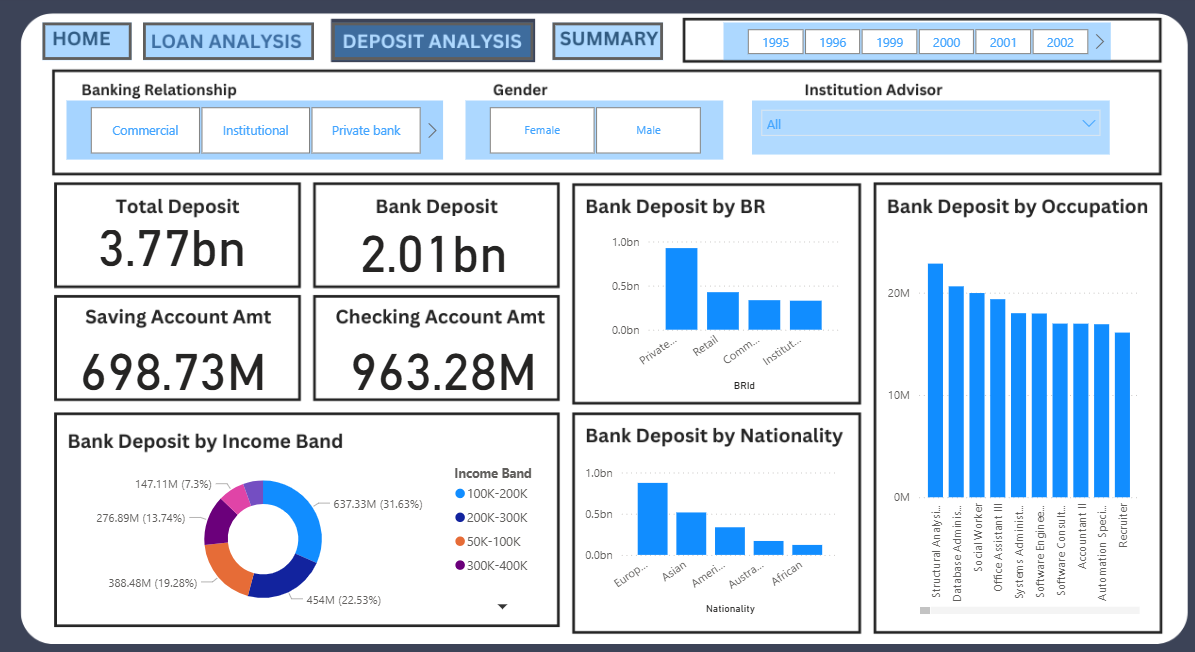

The page's visual inventory and layout, read from the dashboard file:
{"tool":"powerbi","page":{"name":"deposit analysis","canvas":[1280,720],"ordinal":2},"visuals":[{"type":"actionButton","box":[45.4,30.2,94.5,39.7],"z":0},{"type":"actionButton","box":[153.1,30.2,181.4,39.7],"z":1000},{"type":"actionButton","box":[353.4,30.2,213.5,39.7],"z":2000},{"type":"actionButton","box":[587.7,30.2,117.2,39.7],"z":3000},{"type":"card","fields":{"Values":["Banking.total deposit"]},"box":[91.8,244.8,181.6,55.1],"z":3001},{"type":"card","fields":{"Values":["Sum(Banking.Bank Deposits)"]},"box":[367.3,234.6,185.7,65.3],"z":3002},{"type":"card","fields":{"Values":["Sum(Banking.Saving Accounts)"]},"box":[71.4,359.1,224.4,67.3],"z":3003},{"type":"card","fields":{"Values":["Sum(Banking.Checking Accounts)"]},"box":[353,359.1,234.6,67.3],"z":3004},{"type":"slicer","fields":{"Values":["Banking.BRId"]},"box":[70.8,112.7,399.1,62.8],"z":3005},{"type":"slicer","fields":{"Values":["Banking.GenderId"]},"box":[494.1,112.7,273.6,62.8],"z":3006},{"type":"slicer","fields":{"Values":["Banking.IAId"]},"box":[797.8,112.2,379.5,57.1],"z":3007},{"type":"clusteredColumnChart","fields":{"Category":["Banking.Nationality"],"Y":["Sum(Banking.Bank Deposits)"]},"box":[616.2,493.8,279.5,169.4],"z":3008},{"type":"clusteredColumnChart","fields":{"Y":["Sum(Banking.Bank Deposits)"],"Category":["Banking.BRId"]},"box":[640.7,248.9,255,177.5],"z":3009},{"type":"clusteredColumnChart","fields":{"Category":["Banking.Occupation"],"Y":["Sum(Banking.Bank Deposits)"]},"box":[936.5,248.9,277.5,414.2],"z":3010},{"type":"donutChart","fields":{"Category":["Banking.Income Band"],"Y":["Sum(Banking.Bank Deposits)"]},"box":[71.4,493.8,516.2,169.4],"z":3011},{"type":"slicer","fields":{"Values":["Banking.year joining"]},"box":[767.7,30.6,410.4,40.2],"z":3012}]}

Visuals, with their boxes on the page's 1280x720 design canvas (x1, y1, x2, y2). These are canvas units, not pixel positions in the 1195x652 screenshot, which may show the page scaled, cropped or inside an application window:
actionButton: bbox(45, 30, 140, 70)
actionButton: bbox(153, 30, 334, 70)
actionButton: bbox(353, 30, 567, 70)
actionButton: bbox(588, 30, 705, 70)
card - Banking.total deposit: bbox(92, 245, 273, 300)
card - Sum(Banking.Bank Deposits): bbox(367, 235, 553, 300)
card - Sum(Banking.Saving Accounts): bbox(71, 359, 296, 426)
card - Sum(Banking.Checking Accounts): bbox(353, 359, 588, 426)
slicer - Banking.BRId: bbox(71, 113, 470, 176)
slicer - Banking.GenderId: bbox(494, 113, 768, 176)
slicer - Banking.IAId: bbox(798, 112, 1177, 169)
clusteredColumnChart - Banking.Nationality x Sum(Banking.Bank Deposits): bbox(616, 494, 896, 663)
clusteredColumnChart - Sum(Banking.Bank Deposits) x Banking.BRId: bbox(641, 249, 896, 426)
clusteredColumnChart - Banking.Occupation x Sum(Banking.Bank Deposits): bbox(936, 249, 1214, 663)
donutChart - Banking.Income Band x Sum(Banking.Bank Deposits): bbox(71, 494, 588, 663)
slicer - Banking.year joining: bbox(768, 31, 1178, 71)
